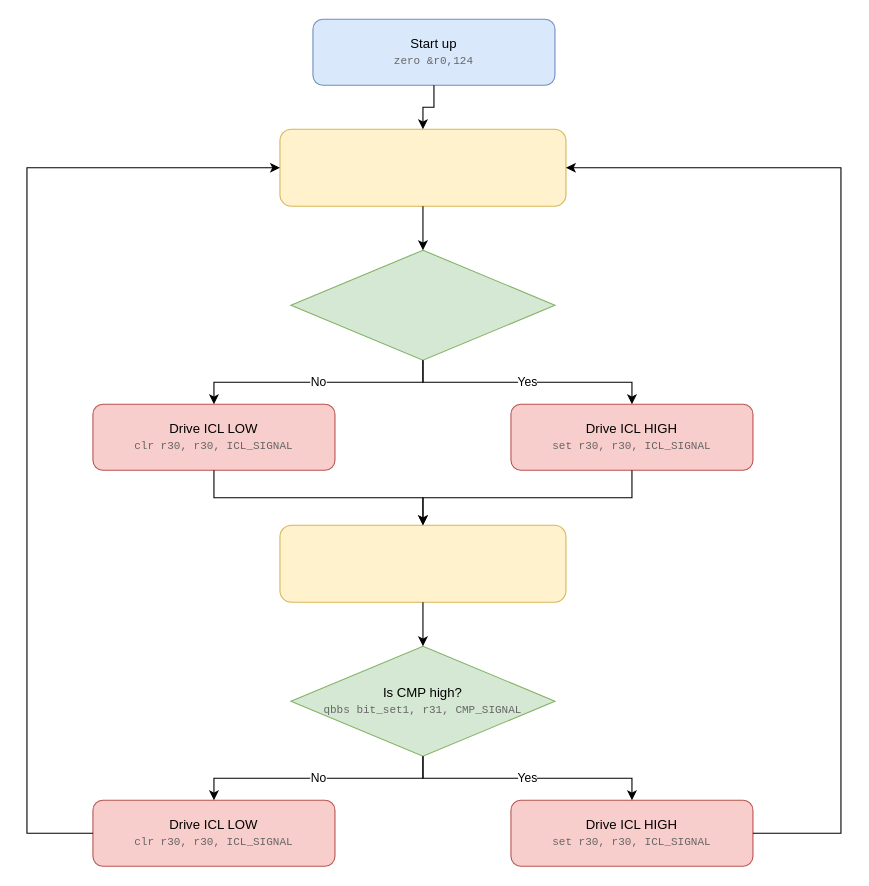
This 869x886 diagram has some shape labels left out. The shapes that lost their labels are listed below. From the top down, each one's box as (x1, y1, x2, y2) in pixels, then its label:
(279, 128, 566, 206): Wait for EPWM to go HIGH wbs r31, EPWM_SIGNAL
(290, 249, 555, 360): Is CMP high? qbbs bit_set0, r31, CMP_SIGNAL
(279, 524, 566, 602): Wait for EPWM to go LOW wbc r31, EPWM_SIGNAL
